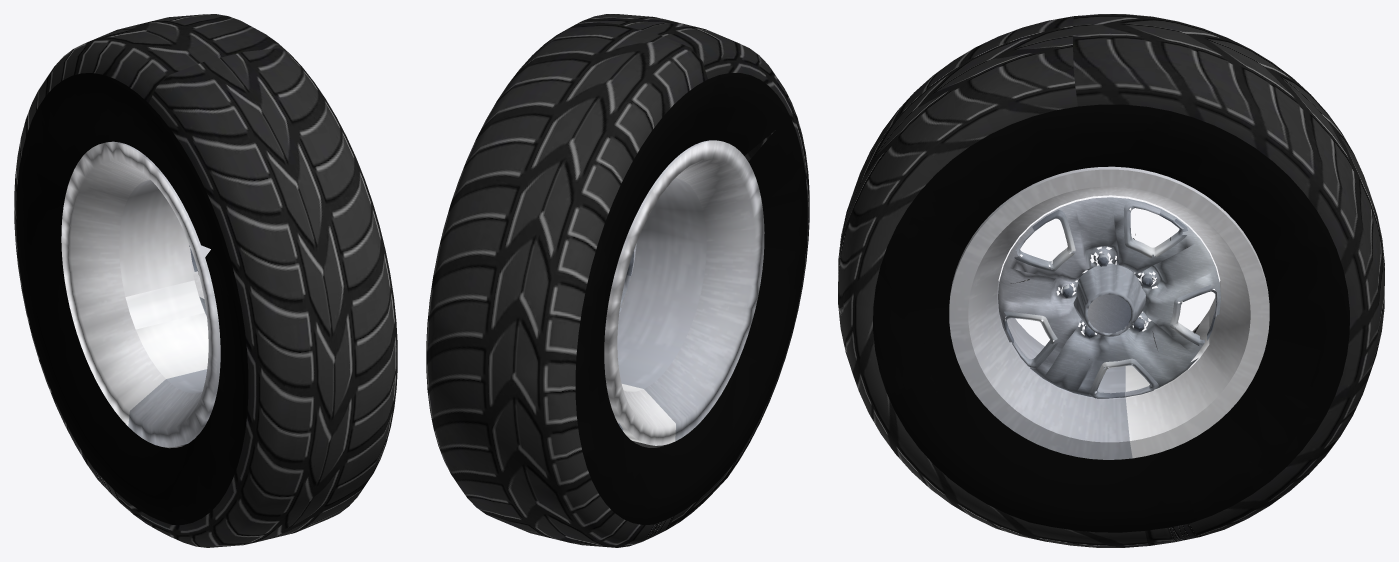
File: LlantaLucasIzq.fbx
The picture shows the model from 3 angles, left to right: view 1: azimuth 30°, elevation 25°; view 2: azimuth 150°, elevation 25°; view 3: azimuth 270°, elevation 25°; orthographic projection. The views are drawn at different scales.
Visible parts, largest first — view 1: Llanta.005; view 2: Llanta.005; view 3: Llanta.005.
Boxes of the visible parts, left/top/right/bottom form: Llanta.005: left=14, top=14, right=397, bottom=547; Llanta.005: left=426, top=14, right=809, bottom=547; Llanta.005: left=838, top=14, right=1384, bottom=547.
Bounding box in the file's own units: 106 × 315 × 319.
